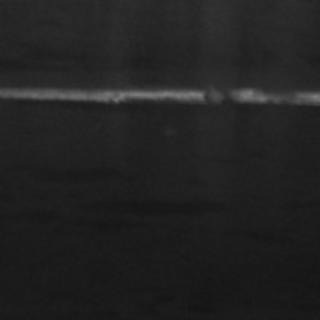scratches: (0, 74, 224, 106), (223, 78, 317, 110)
